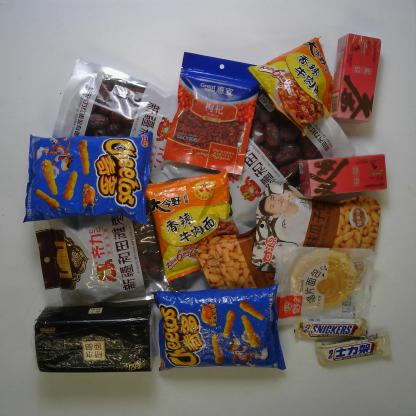Chocolate: (316, 330, 393, 367), (294, 315, 370, 342)
Dessert: (273, 244, 379, 326)
Dried Food: (148, 83, 356, 235), (33, 198, 188, 307), (52, 58, 178, 174)
Dried Fruit: (161, 51, 261, 176), (251, 180, 381, 275), (196, 224, 276, 288)
Instant Drink: (328, 32, 382, 123), (298, 153, 388, 198)
Instant Noodles: (142, 167, 240, 282), (246, 35, 334, 139)
Puffed Food: (147, 280, 288, 373), (22, 130, 154, 226)
Tissue: (30, 302, 159, 374)
